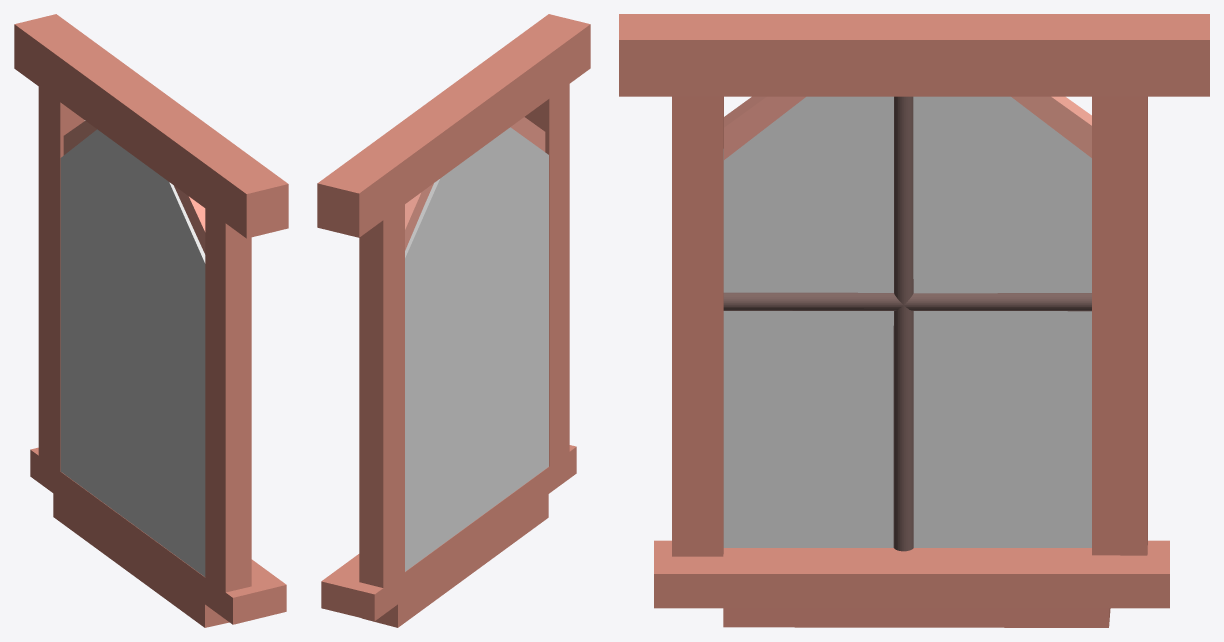
File: Window.fbx
The picture shows the model from 3 angles, left to right: view 1: azimuth 30°, elevation 25°; view 2: azimuth 150°, elevation 25°; view 3: azimuth 270°, elevation 25°; orthographic projection. The views are drawn at different scales.
Visible parts, largest first — view 1: Cube, Cube.003, Cube.001, Cube.002; view 2: Cube, Cube.003, Cube.002, Cube.001; view 3: Cube.003, Cube, Cylinder, Cylinder.001, Cube.001, Cube.002.
Boxes of the visible parts, <box> form: Cube: <box>14,14,288,627</box>; Cube.003: <box>60,129,205,576</box>; Cube.001: <box>174,186,205,254</box>; Cube.002: <box>63,121,96,155</box>; Cube: <box>317,14,590,627</box>; Cube.003: <box>405,127,548,571</box>; Cube.002: <box>405,183,433,250</box>; Cube.001: <box>510,117,545,151</box>; Cube.003: <box>723,96,1091,547</box>; Cube: <box>619,14,1209,627</box>; Cylinder: <box>893,96,913,551</box>; Cylinder.001: <box>723,292,1091,311</box>; Cube.001: <box>724,96,805,159</box>; Cube.002: <box>1011,96,1091,157</box>.
Size of the model in its own units: 177 by 1458 by 1321.
